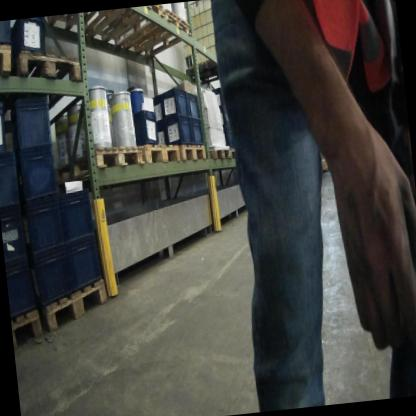pallet: (45, 4, 168, 60), (95, 5, 200, 70), (48, 137, 147, 193), (9, 33, 83, 99), (39, 272, 112, 338), (11, 307, 49, 348), (141, 135, 184, 171), (178, 136, 209, 172), (0, 27, 18, 82), (206, 140, 231, 166), (230, 140, 249, 171)
small_load_carrier: (64, 221, 113, 302), (53, 175, 102, 249), (29, 241, 78, 310), (10, 139, 61, 205), (5, 91, 54, 156), (17, 187, 65, 253), (4, 248, 39, 316), (0, 202, 32, 266), (0, 148, 26, 216), (11, 17, 50, 54), (157, 84, 191, 123), (162, 113, 195, 151), (129, 109, 160, 145), (146, 92, 169, 132), (183, 87, 203, 125), (205, 83, 233, 109), (0, 97, 12, 151), (186, 114, 206, 146), (218, 104, 237, 126), (220, 124, 236, 150), (0, 21, 15, 46)
